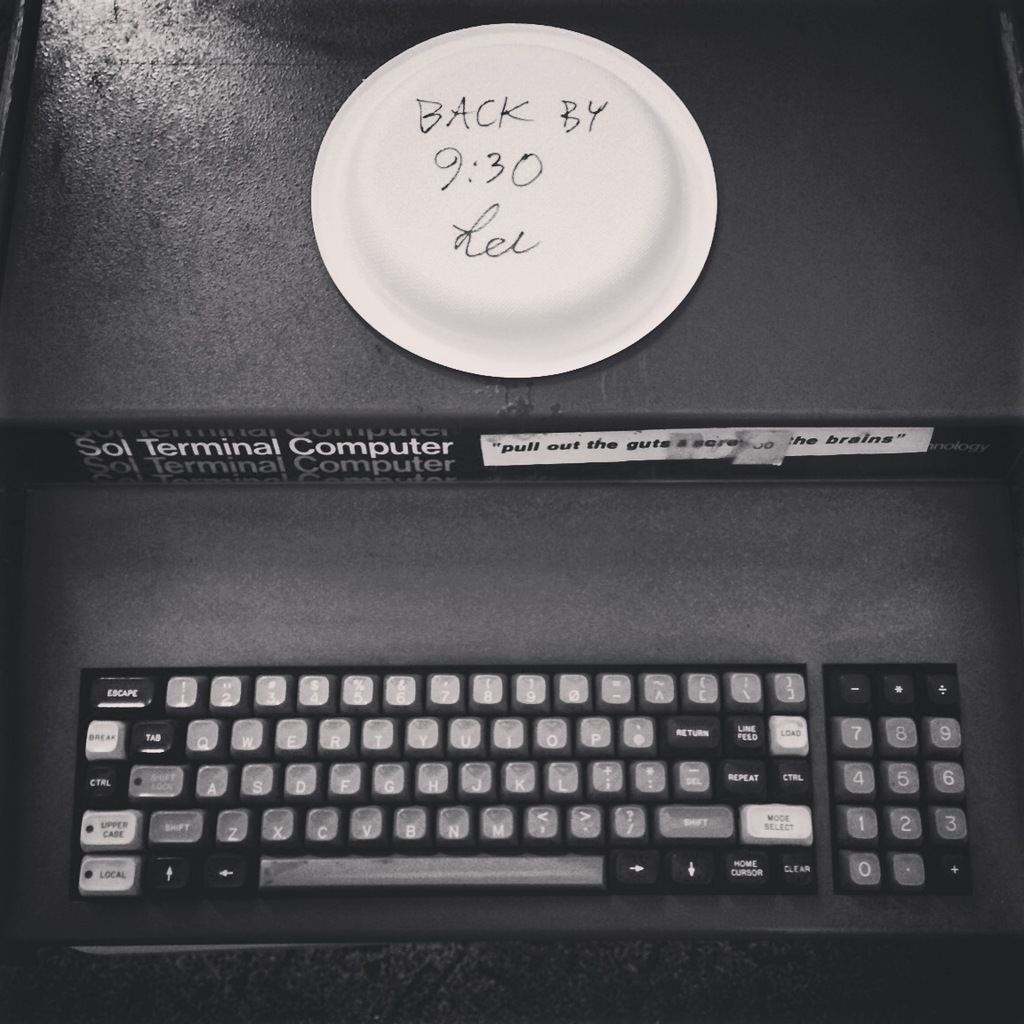plate: (301, 0, 730, 384)
